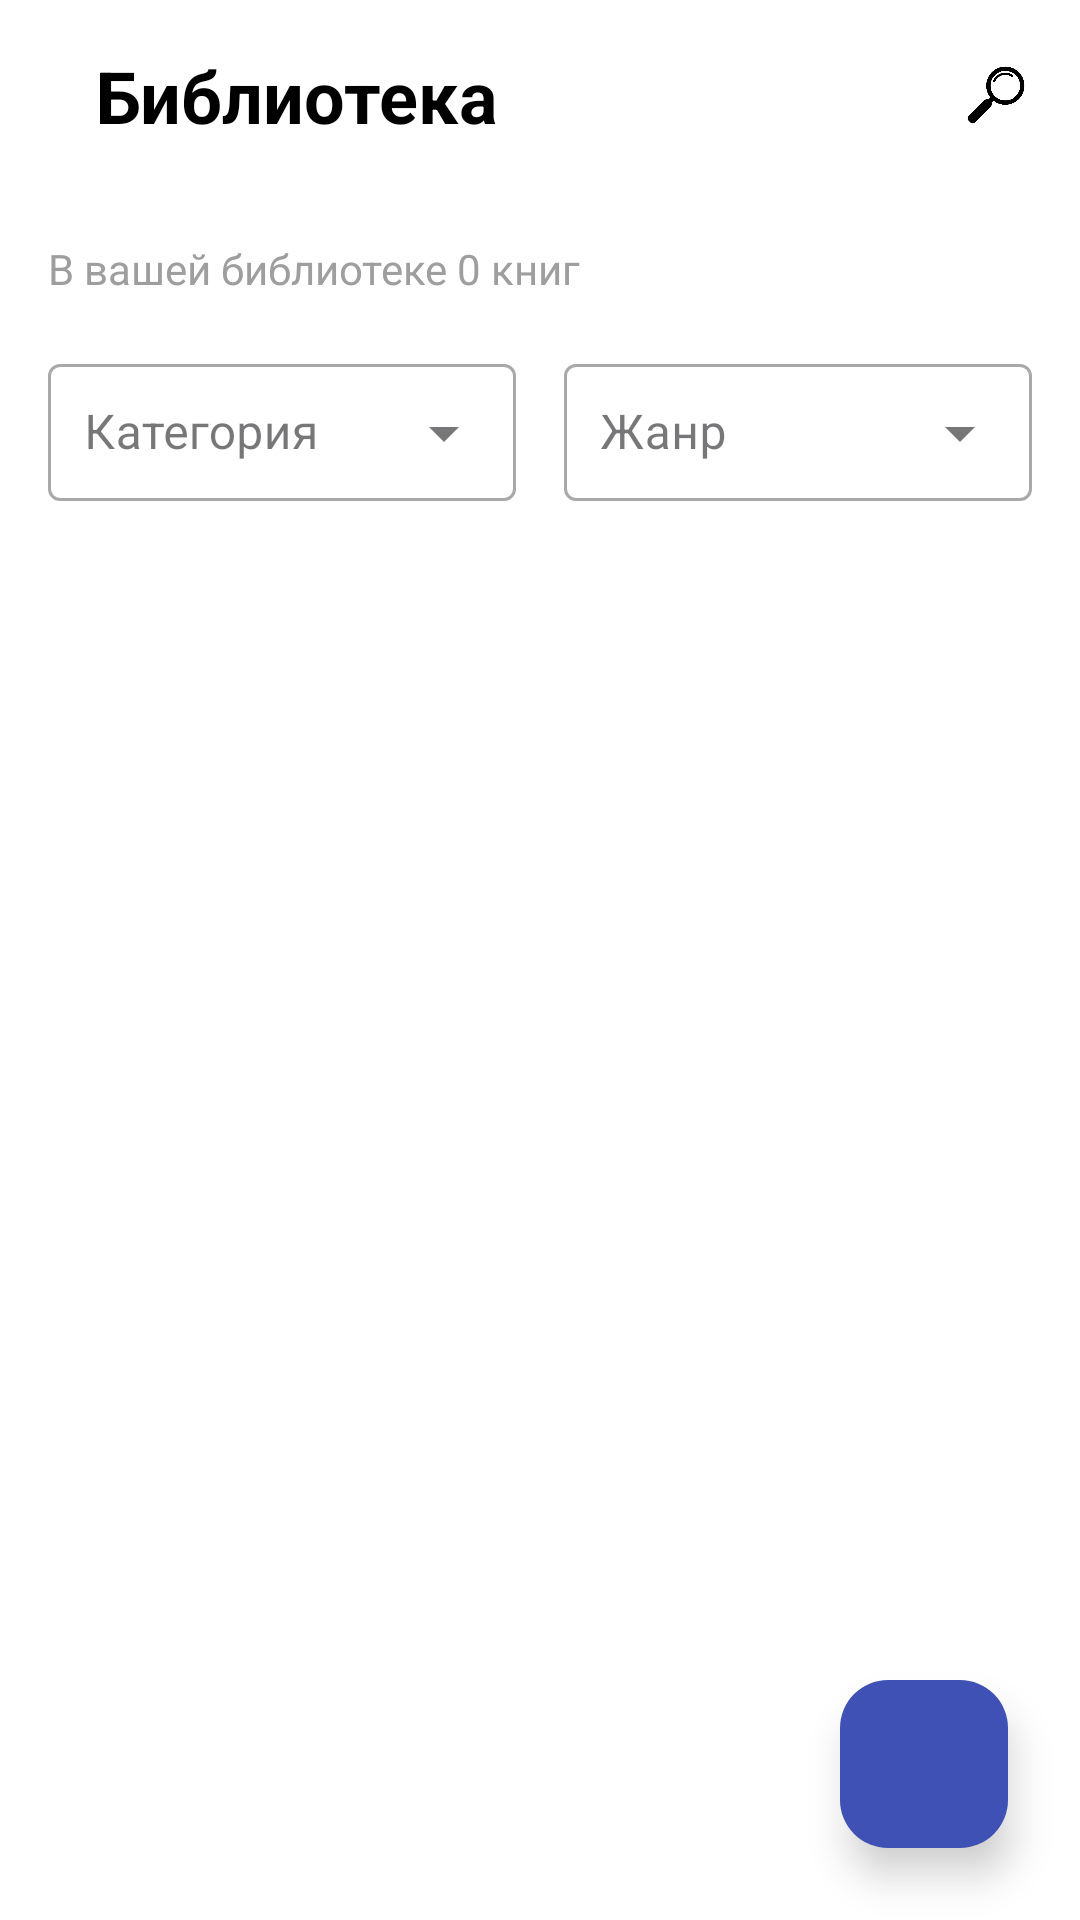

Screen size 1080 x 1920. Icon name, then its box in pixels as (left=x1, top=y1, right=x2, bottom=y2):
Поиск книг: (left=968, top=67, right=1024, bottom=123)
